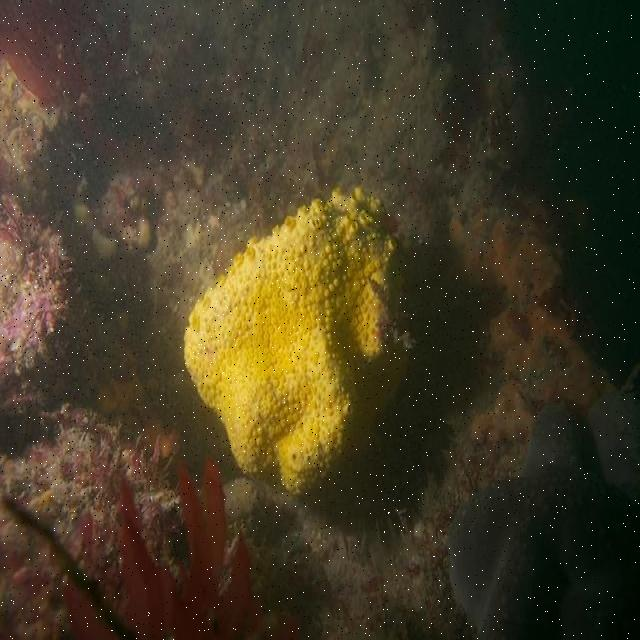reefs: (183, 187, 417, 496)
